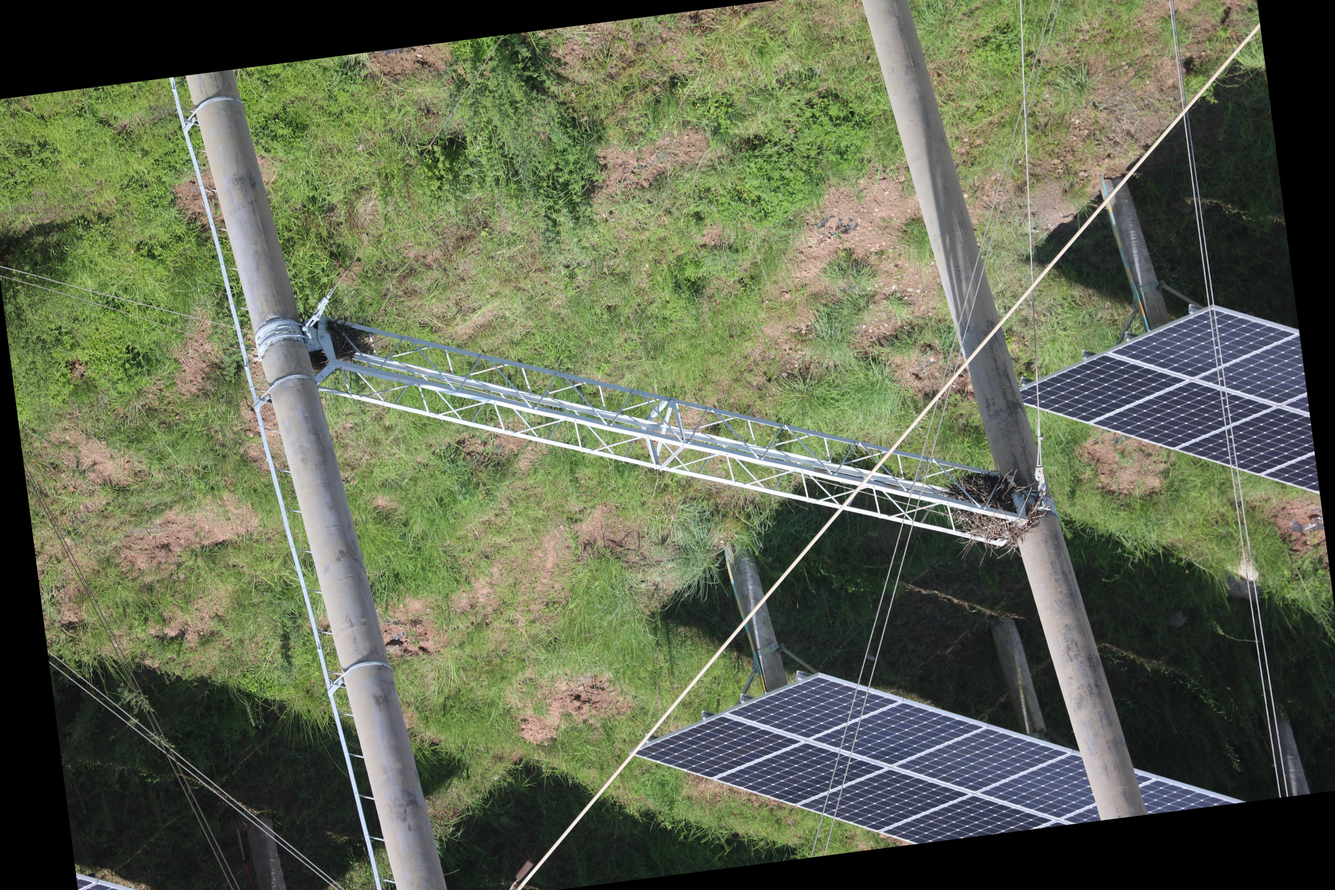damper_defect: (490, 856, 541, 890)
